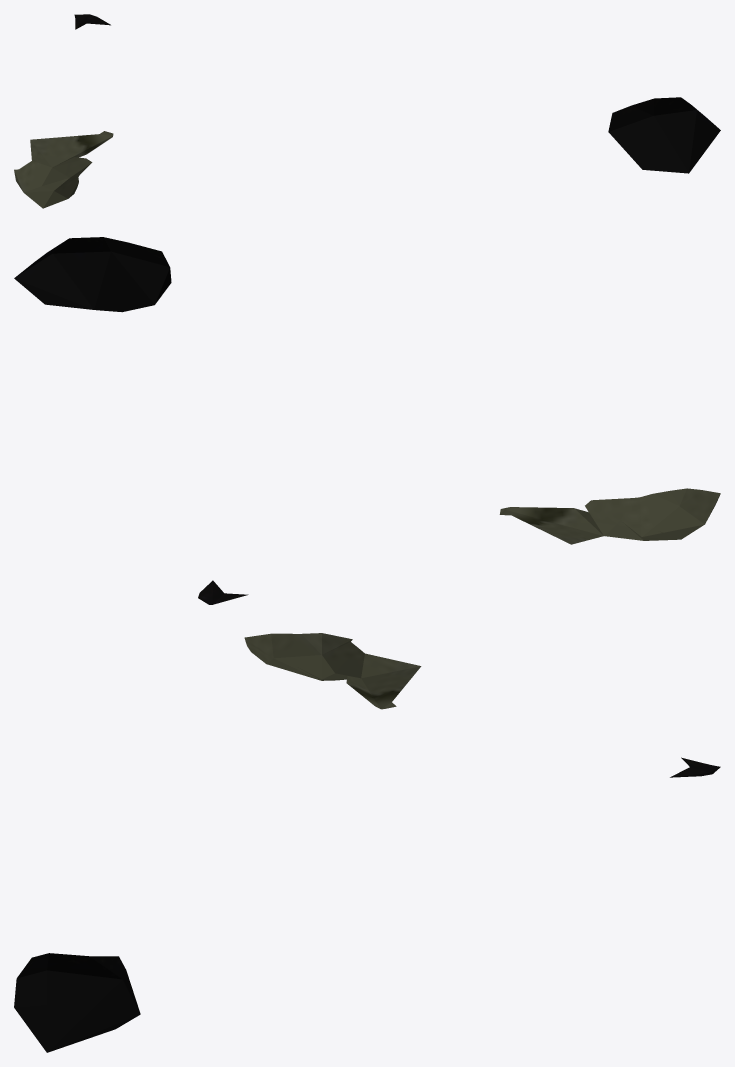
3 views of the same model, one above another, from view 1: azimuth 30°, elevation 25°; view 2: azimuth 150°, elevation 25°; view 3: azimuth 270°, elevation 25° (orthographic). The views are drawn at different scales.
Bounding box in the file's own units: 1.11 × 0.0919 × 0.886.
1 material, 1 textured.
